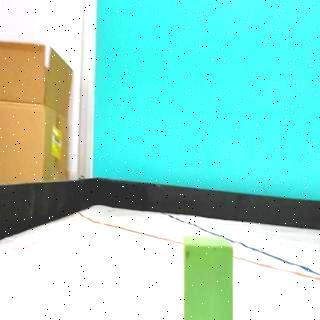greenbox: (182, 233, 235, 320)
